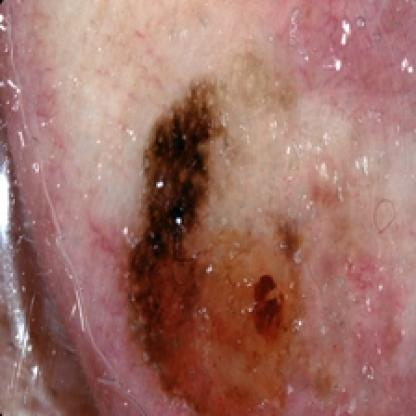Skin_Cancer-Malignant: (124, 69, 333, 416)
